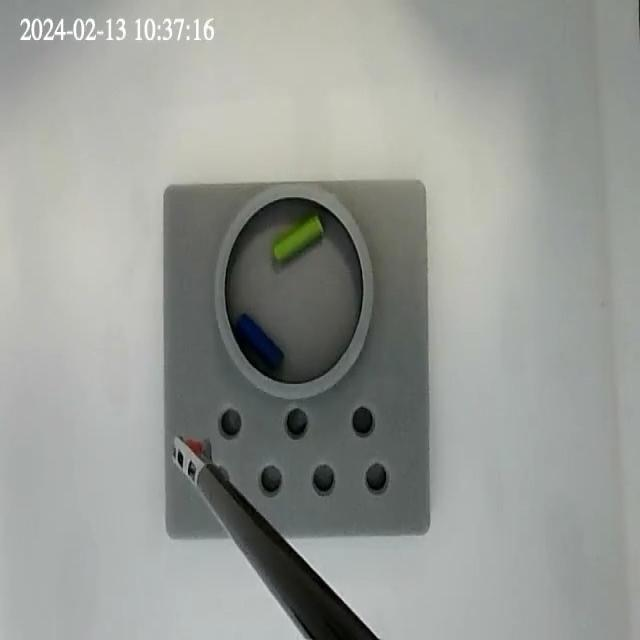EmptyHole: (364, 460, 390, 496), (312, 460, 336, 498), (350, 403, 376, 438), (285, 404, 308, 441), (218, 406, 243, 439), (258, 462, 282, 496), (206, 466, 232, 496)
